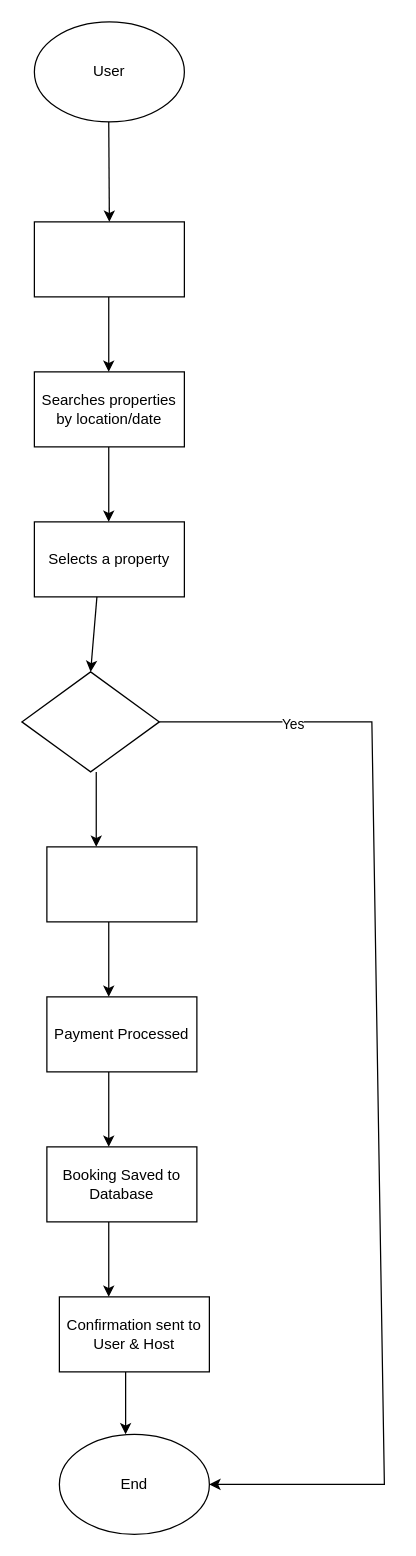
Some shapes in this 416 by 1556 pixel diagram are drawn without their labels. The centre of each missing label's shape, as x and y in pixels:
"Is property available" goes at (x=90, y=721).
"User Confirms Booking" goes at (x=121, y=884).
"User Logs in" goes at (x=108, y=259).
